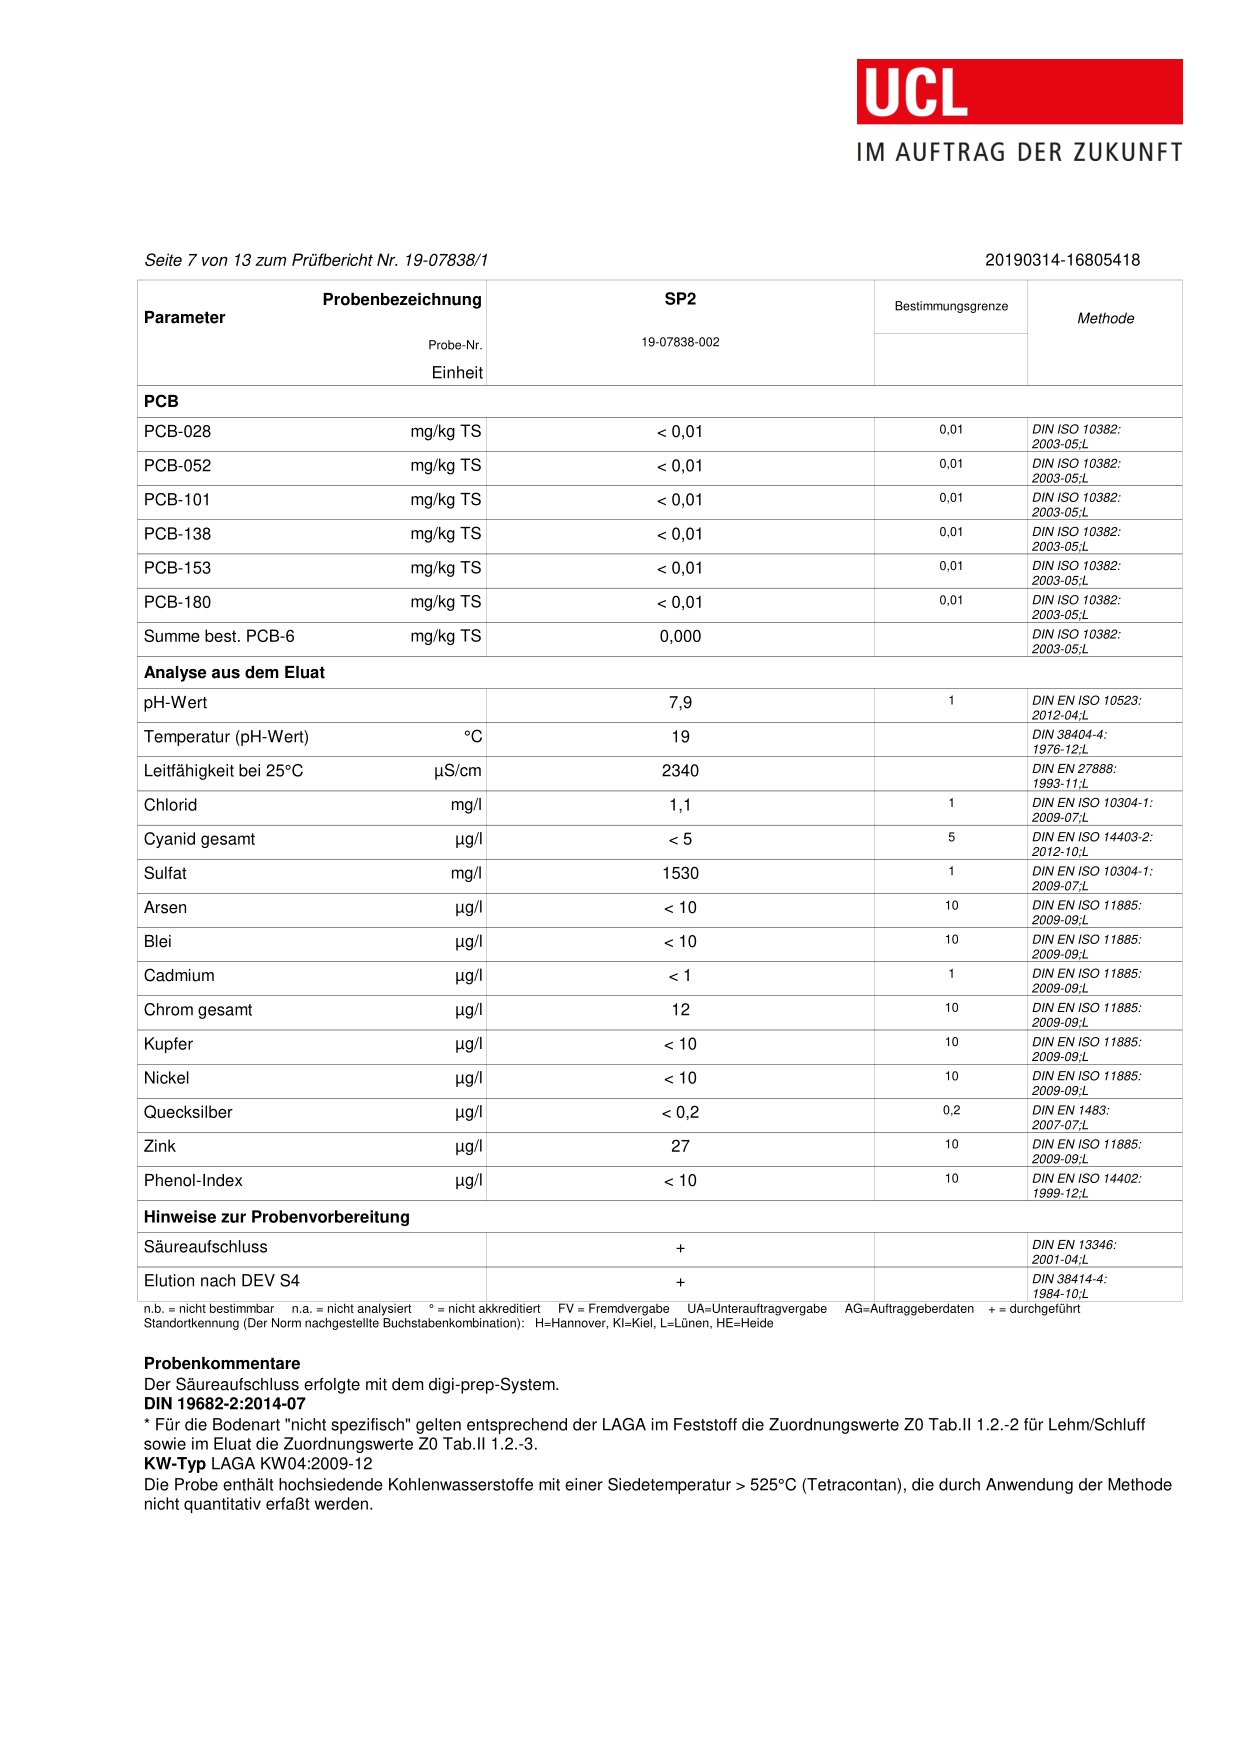table: (111, 691, 1194, 1205), (127, 419, 1202, 660), (119, 1229, 1188, 1310)
